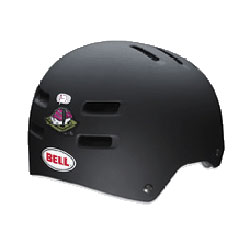helmet: (27, 47, 227, 186)
